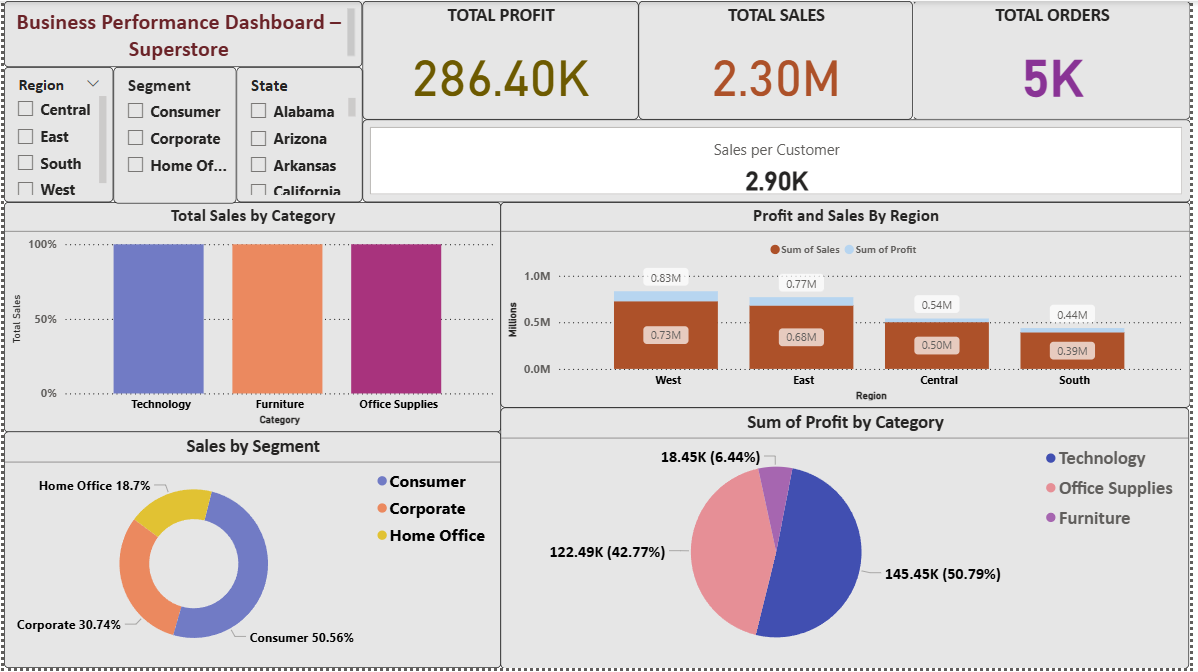

The page's visual inventory and layout, read from the dashboard file:
{"tool":"powerbi","page":{"name":"Page 1","canvas":[1280,720],"ordinal":0},"visuals":[{"type":"card","fields":{"Values":["Sample - Superstore.Total Orders"]},"box":[981.3,0,299.6,127.9],"z":0},{"type":"card","fields":{"Values":["Sample - Superstore.Total Sales"]},"box":[688.2,0,293.1,127.9],"z":1000},{"type":"card","fields":{"Values":["Sample - Superstore.Total Profit"]},"box":[417.8,0,270.4,127.9],"z":2000},{"type":"textbox","box":[0,0,417.8,71.2],"z":3000},{"type":"hundredPercentStackedColumnChart","fields":{"Y":["Sample - Superstore.Total Sales"],"Category":["Sample - Superstore.Category"]},"box":[0,216.7,536.7,248.3],"z":4000},{"type":"lineStackedColumnComboChart","fields":{"Category":["Sample - Superstore.Region"],"Y":["Sum(Sample - Superstore.Sales)","Sum(Sample - Superstore.Profit)"]},"box":[536,217,744.8,221.8],"z":5000},{"type":"donutChart","title":"Sales by Segment","fields":{"Category":["Sample - Superstore.Segment"],"Y":["Sum(Sample - Superstore.Sales)"]},"box":[0,465,536.7,255],"z":6000},{"type":"slicer","fields":{"Values":["Sample - Superstore.Region"]},"box":[0,71.2,118.2,145.7],"z":7000},{"type":"slicer","fields":{"Values":["Sample - Superstore.Segment"]},"box":[118.2,71.2,150.6,147.3],"z":8000},{"type":"slicer","fields":{"Values":["Sample - Superstore.State"]},"box":[268.8,71.2,149,145.7],"z":9000},{"type":"pieChart","fields":{"Category":["Sample - Superstore.Category"],"Y":["Sum(Sample - Superstore.Profit)"]},"box":[536,438.8,743.2,281.7],"z":10000},{"type":"cardVisual","fields":{"Data":["Sample - Superstore.Sales per Customer"]},"box":[417.8,127.9,863,89.1],"z":11000}]}

Visuals, with their boxes in screenshot pixels (x1, y1, x2, y2), scaled from the page's 1280x720 canvas onto the 1198x672 screenshot:
card - Sample - Superstore.Total Orders: crop(918, 0, 1197, 119)
card - Sample - Superstore.Total Sales: crop(644, 0, 918, 119)
card - Sample - Superstore.Total Profit: crop(391, 0, 644, 119)
textbox: crop(0, 0, 391, 66)
hundredPercentStackedColumnChart - Sample - Superstore.Total Sales x Sample - Superstore.Category: crop(0, 202, 502, 434)
lineStackedColumnComboChart - Sample - Superstore.Region x Sum(Sample - Superstore.Sales): crop(502, 203, 1197, 410)
"Sales by Segment" donutChart: crop(0, 434, 502, 671)
slicer - Sample - Superstore.Region: crop(0, 66, 111, 202)
slicer - Sample - Superstore.Segment: crop(111, 66, 252, 204)
slicer - Sample - Superstore.State: crop(252, 66, 391, 202)
pieChart - Sample - Superstore.Category x Sum(Sample - Superstore.Profit): crop(502, 410, 1197, 671)
cardVisual - Sample - Superstore.Sales per Customer: crop(391, 119, 1197, 203)
